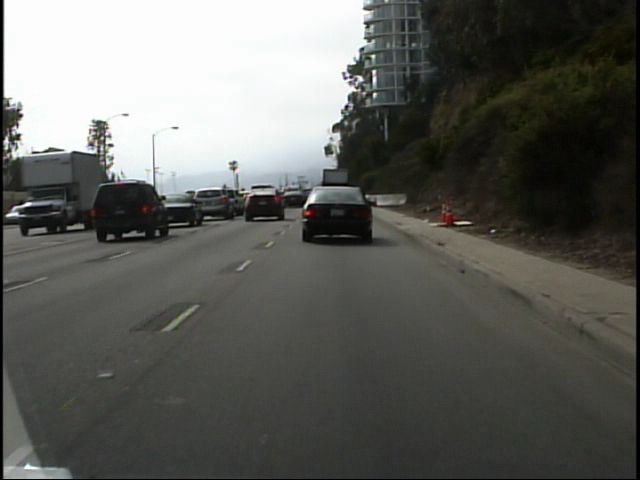car: (89, 176, 166, 240), (244, 186, 286, 221), (162, 190, 201, 227), (196, 186, 230, 219)
